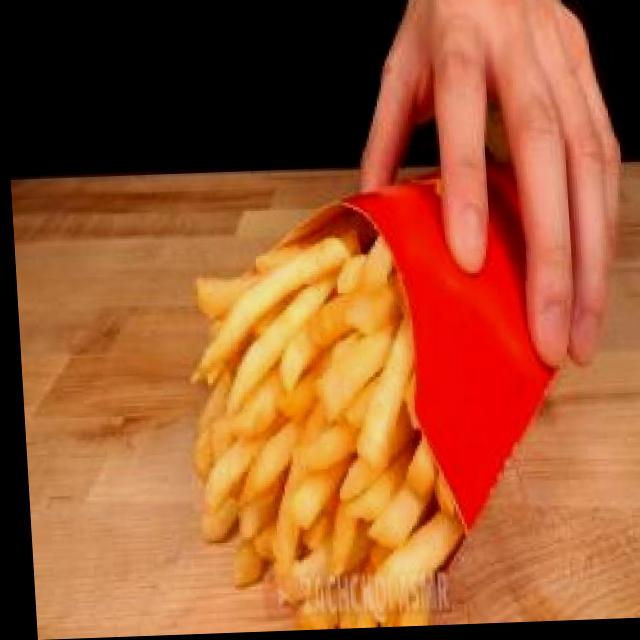french fries: (148, 149, 488, 636)
